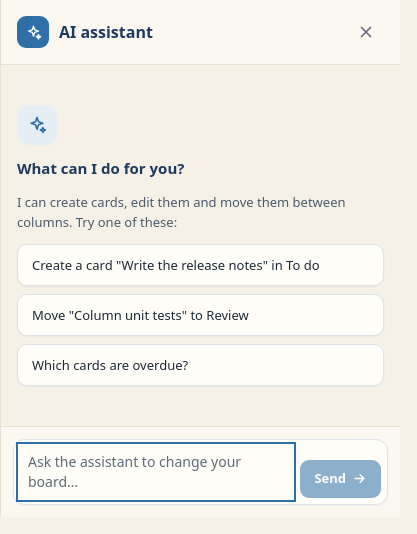
Test: the changes under an answer › appear under a new answer and the board is already updated
The image size is (417, 534).
Type "do it" into the text box labelled "Ask the assistant to change your board…" at {"x": 156, "y": 472}, box x1=20 y1=446 x2=292 y2=498
Then press Enter
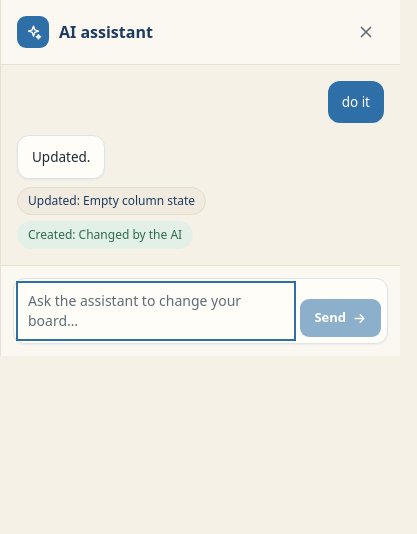
Expected: the number of buttons with test id "ai-chip" is 2, x1=17 y1=187 x2=206 y2=215; x1=17 y1=221 x2=193 y2=249
